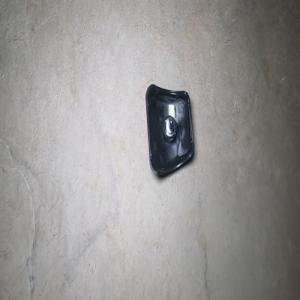LuggagePart: (144, 83, 194, 179)
